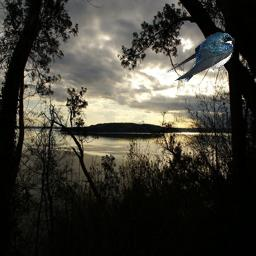Swallow: (166, 32, 235, 82)
